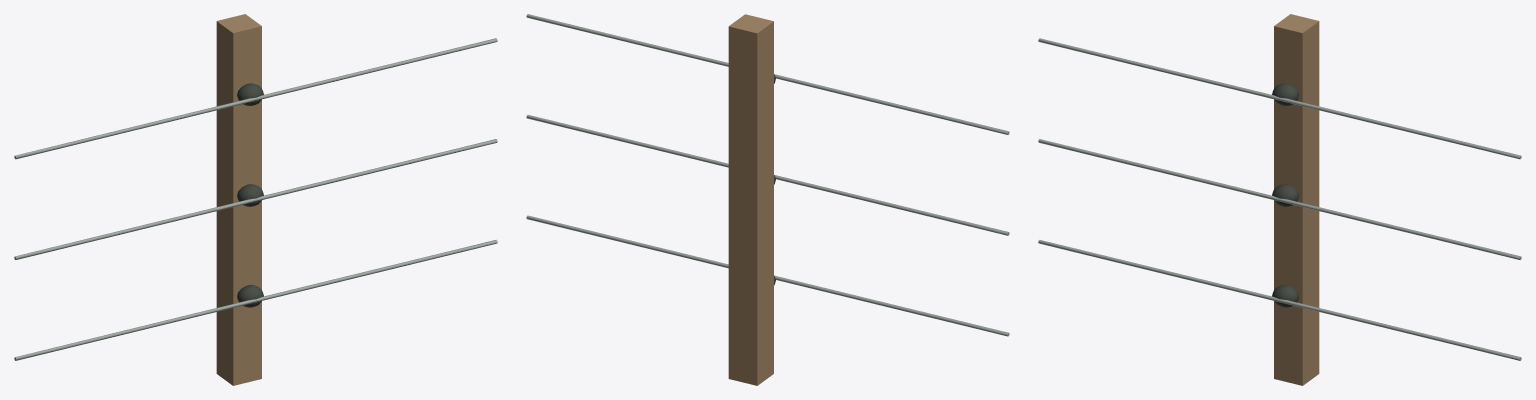
File: zoo-and-safari-park-builder-electric-wire-post-fc6ec1c2__21447.glb
3 views of the same model, side by side, from view 1: azimuth 30°, elevation 25°; view 2: azimuth 150°, elevation 25°; view 3: azimuth 330°, elevation 25° (orthographic).
Visible parts, largest first — view 1: electric-wire-post; view 2: electric-wire-post; view 3: electric-wire-post.
Part boxes in pixels (x1=…): electric-wire-post: x1=14, y1=14, x2=497, y2=385; electric-wire-post: x1=526, y1=14, x2=1009, y2=385; electric-wire-post: x1=1038, y1=14, x2=1521, y2=385.
Size of the model in its own units: 2 by 1.4 by 0.1869.
